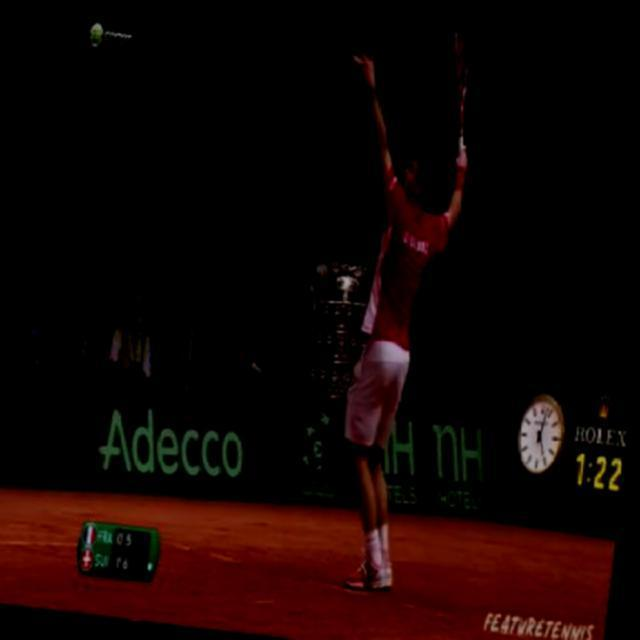non-fight: (286, 44, 480, 600)
